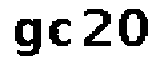0: (120, 7, 148, 48)
2: (80, 6, 114, 50)
c: (47, 17, 74, 48)
g: (12, 15, 43, 57)
